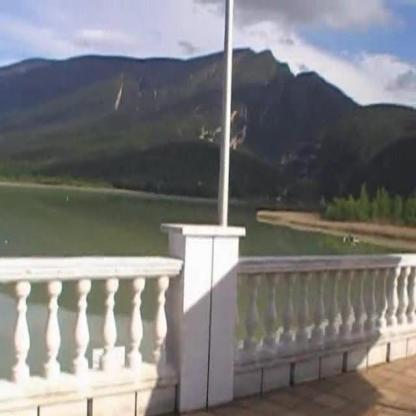other: (386, 260, 412, 362)
